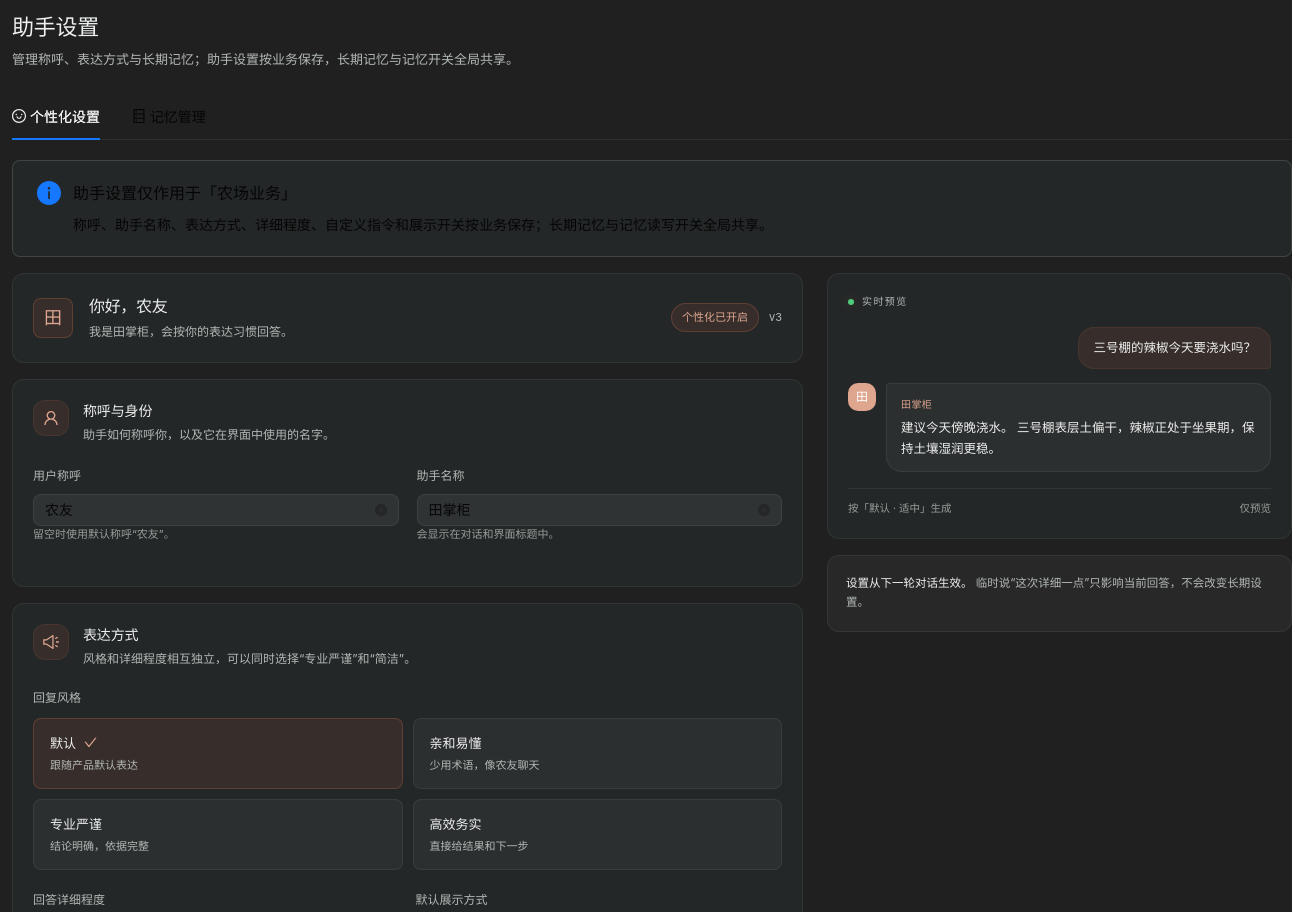
Test: AssistantSettings › 加载个性化设置并按版本保存修改
Replace the text in the field with placeholder "例如：李师傅" with "李师傅" at [208, 510], box [45,499,370,521]
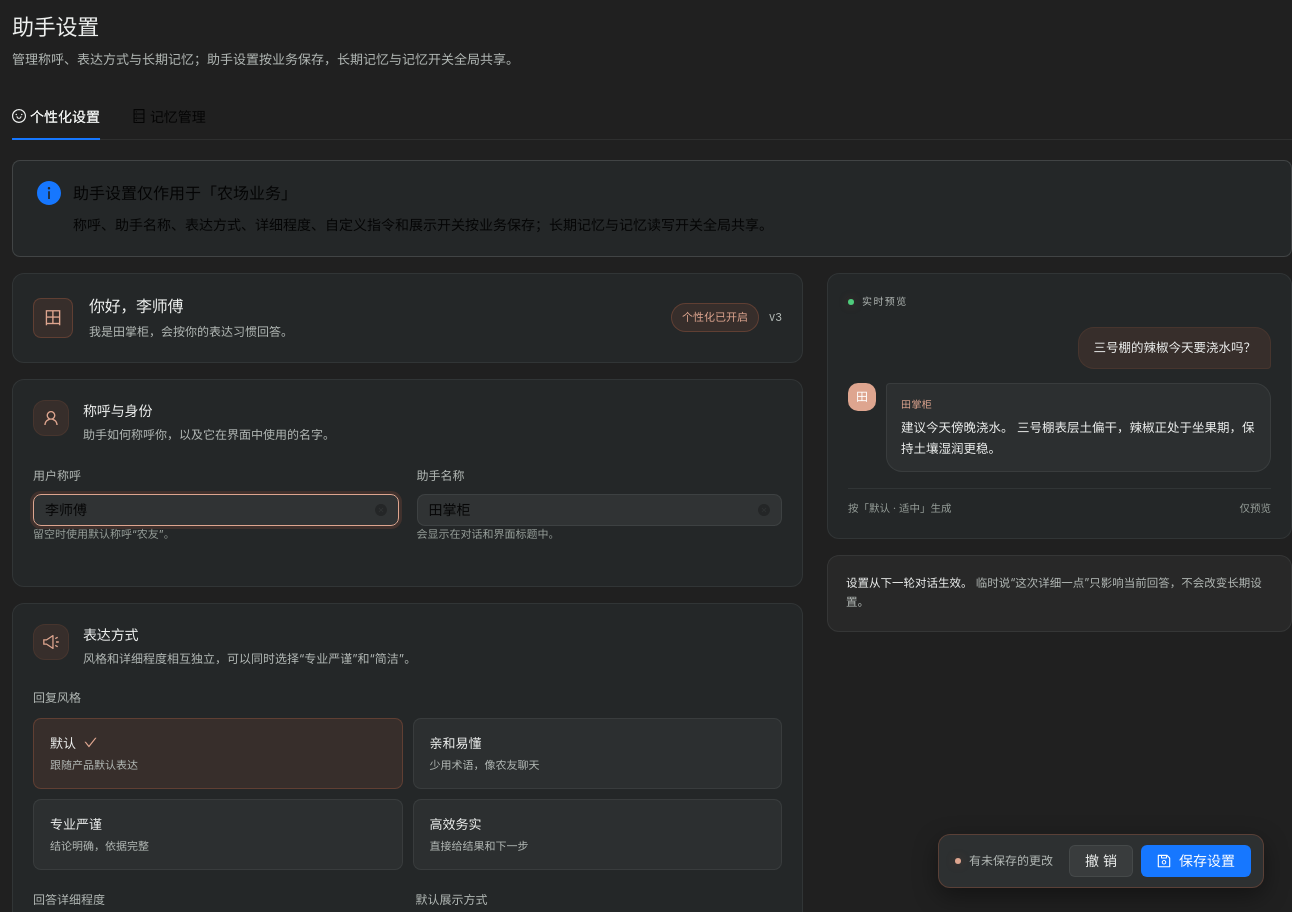
Click the button "保存设置" at [1196, 861], box [1141,845,1251,877]
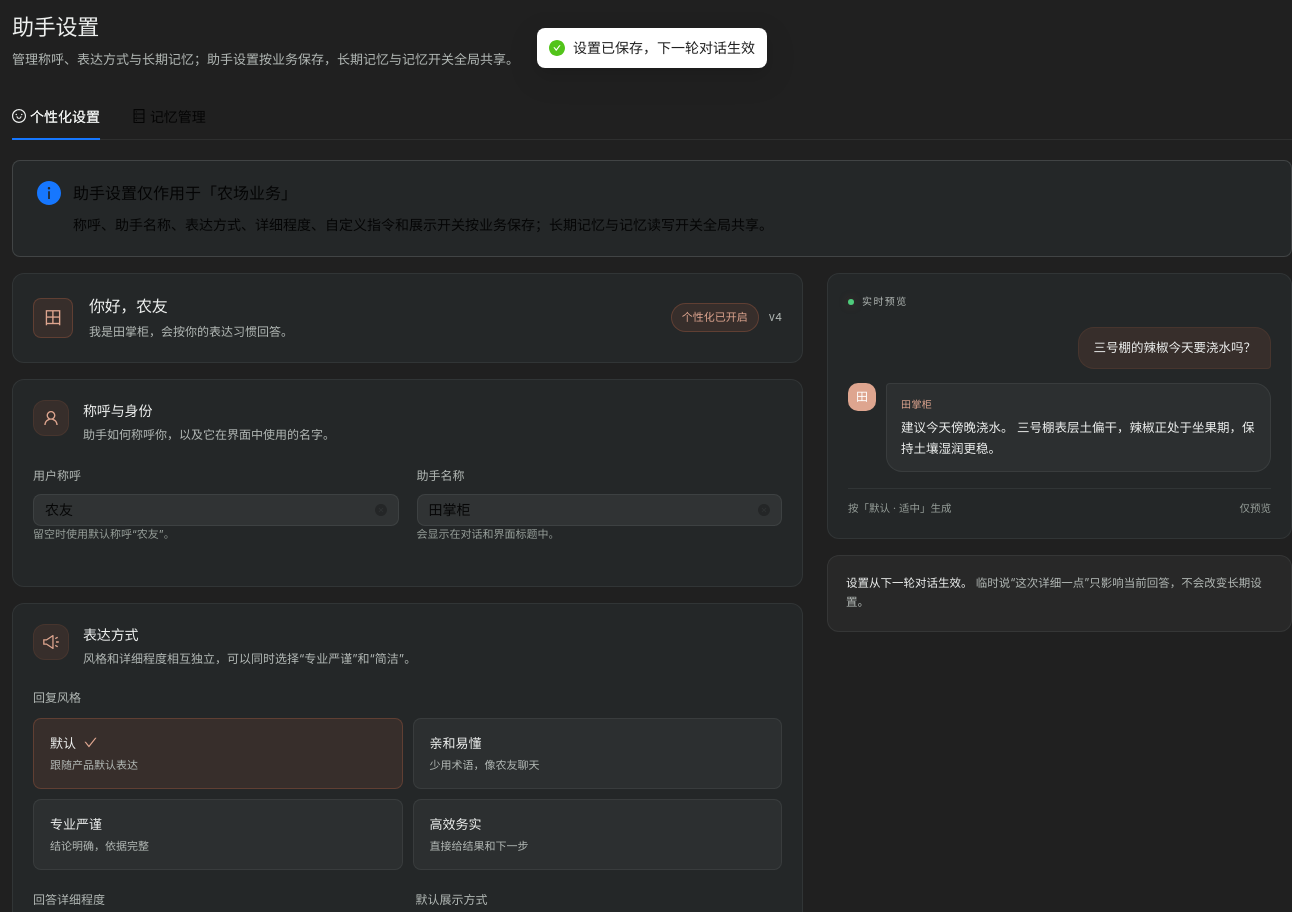
Expected: the text "设置已保存，下一轮对话生效" is shown, [573,37,755,59]
